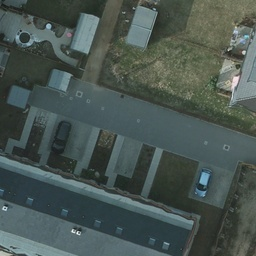car: (193, 167, 213, 200), (53, 121, 68, 154)
